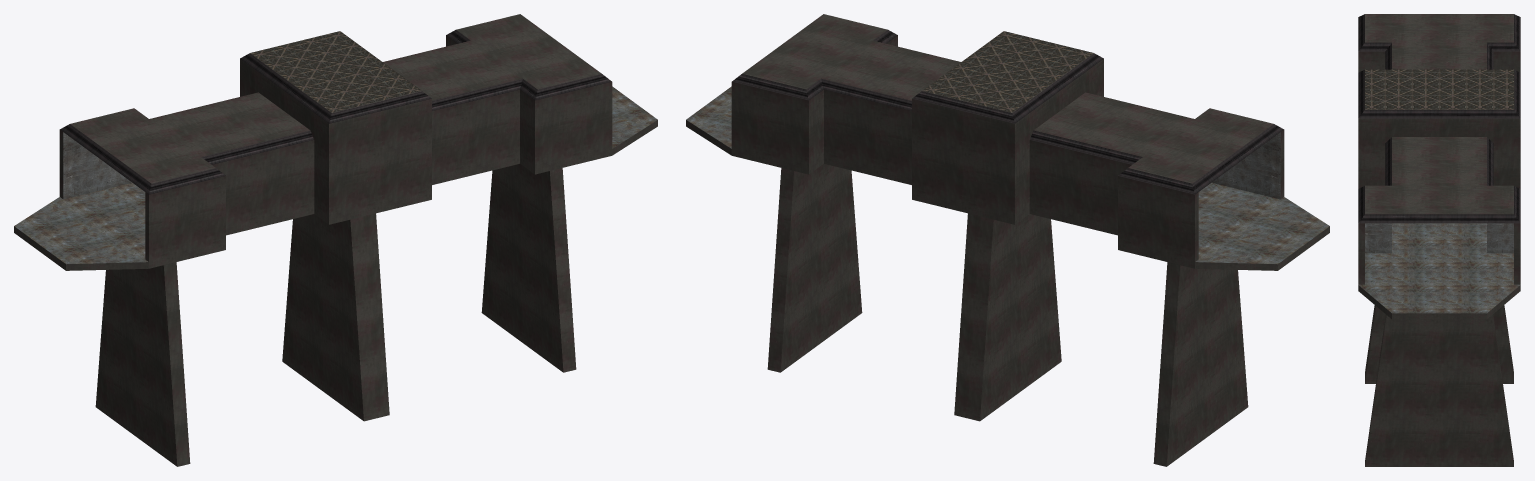
Rendered from new_tunnelhouse.fbx.
The picture shows the model from 3 angles, left to right: view 1: azimuth 30°, elevation 25°; view 2: azimuth 150°, elevation 25°; view 3: azimuth 270°, elevation 25°; orthographic projection. The views are drawn at different scales.
Visible parts, largest first — view 1: Object; view 2: Object; view 3: Object.
Part boxes in pixels (x1,y1,x2,y2): Object: (14, 14, 657, 466); Object: (686, 14, 1329, 466); Object: (1358, 14, 1520, 466).
Size of the model in its own units: 18400 by 9400 by 4800.
